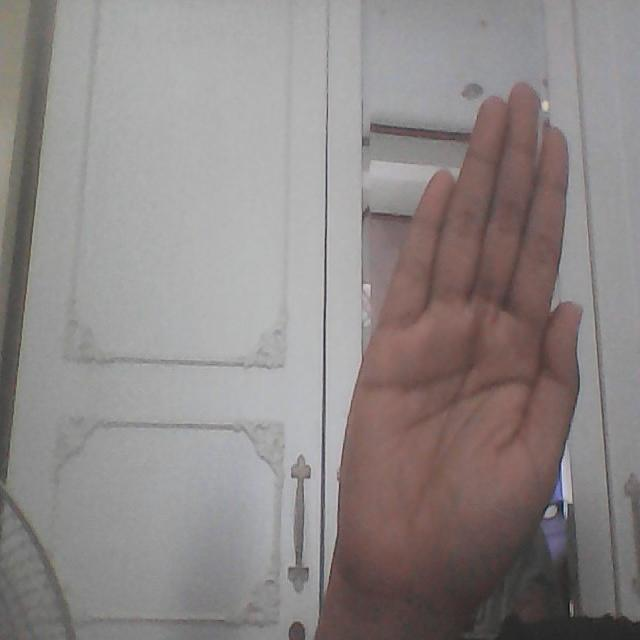hand: (284, 72, 592, 626)
